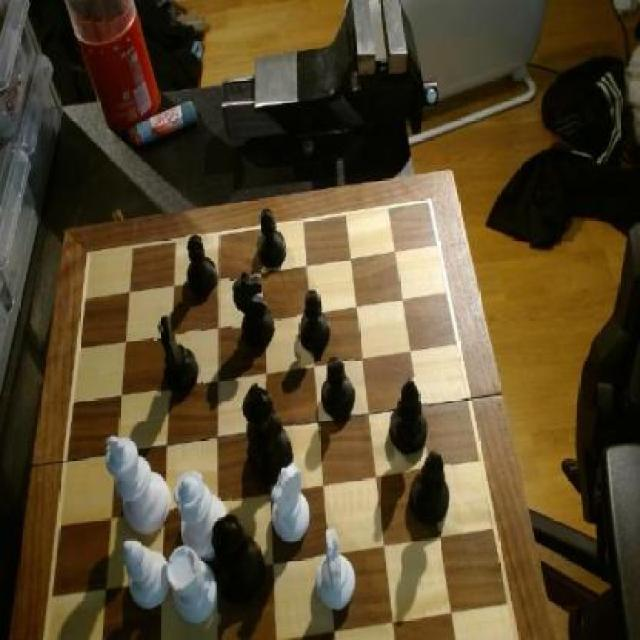bishop: (409, 451, 451, 536), (389, 378, 428, 460)
black-bishop: (240, 382, 296, 488)
black-king: (154, 311, 201, 397), (231, 270, 278, 348)
black-knight: (256, 206, 292, 274), (322, 354, 358, 421), (297, 291, 334, 356), (185, 234, 220, 298)
black-pawn: (208, 512, 267, 614)
black-rook: (122, 534, 173, 611)
white-bishop: (102, 432, 173, 537)
white-king: (314, 526, 360, 614), (268, 464, 313, 548)
white-pawn: (174, 472, 231, 563)
white-queen: (165, 544, 219, 628)
